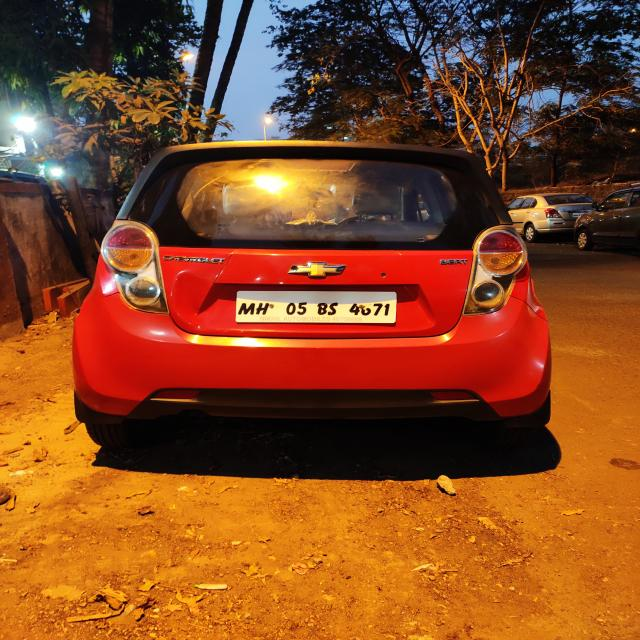Number-Plate: (237, 289, 395, 322)
